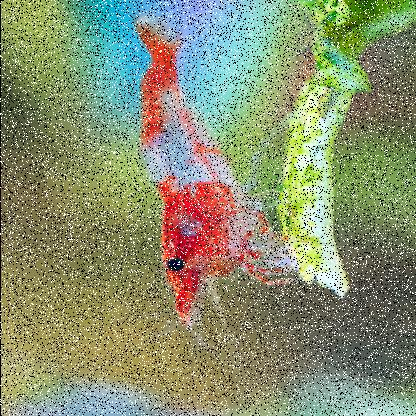shrimp: (130, 11, 296, 332)
